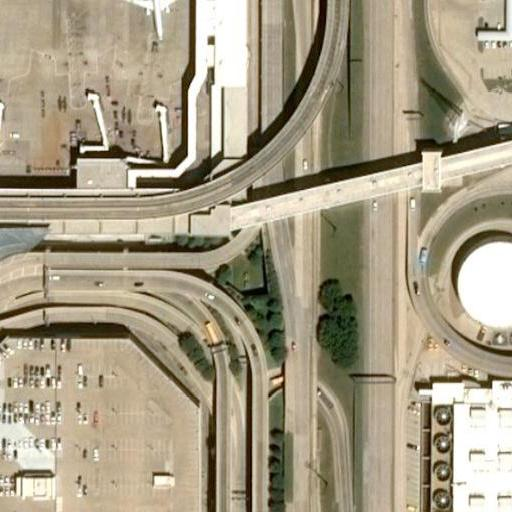Aircraft: (121, 0, 189, 51)
